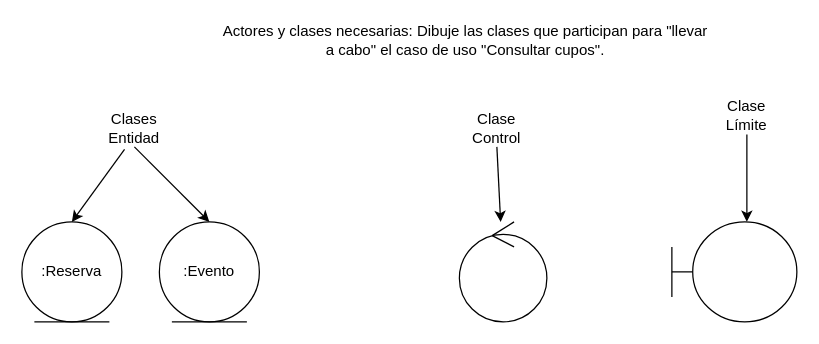
The diagram is 819 pixels wide and 344 high, and some of its shapes have lost their labels. Each missing label, with the centre of its shape:
:Calcular Cupos: the point at 502,271
:Pantalla Eventos: the point at 734,271
